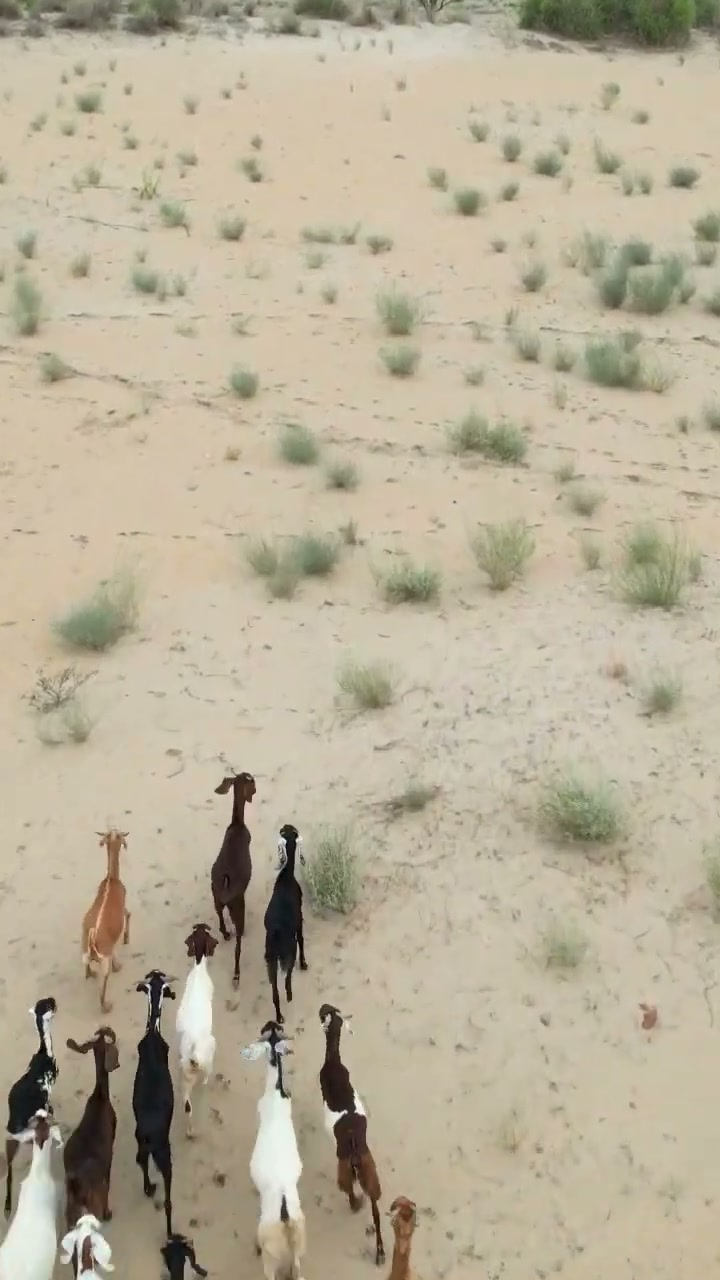animal_footprint: (182, 1110, 255, 1265)
